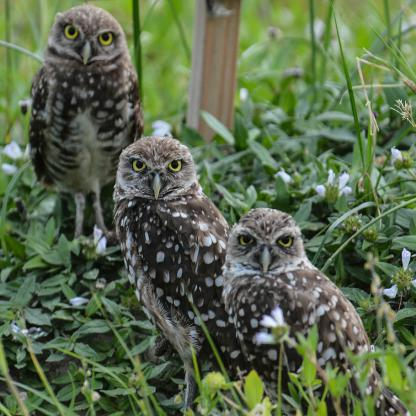owl: (78, 107, 350, 415), (228, 168, 416, 416), (42, 5, 140, 332)
